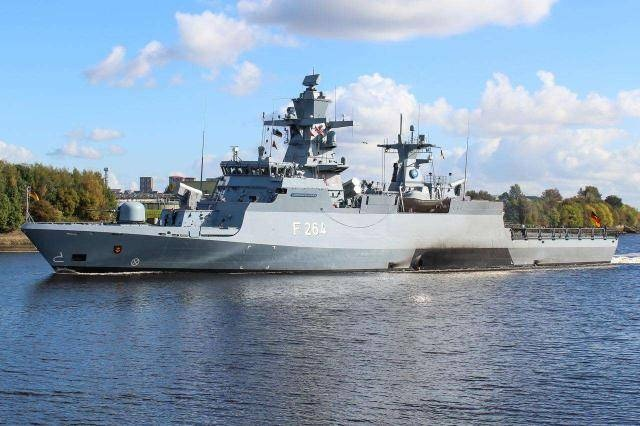warship: (21, 64, 630, 274)
